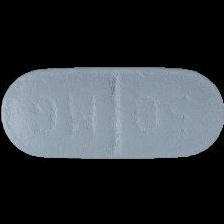43063-411: (0, 0, 224, 224)
